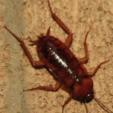cockroach: (35, 34, 94, 103)
